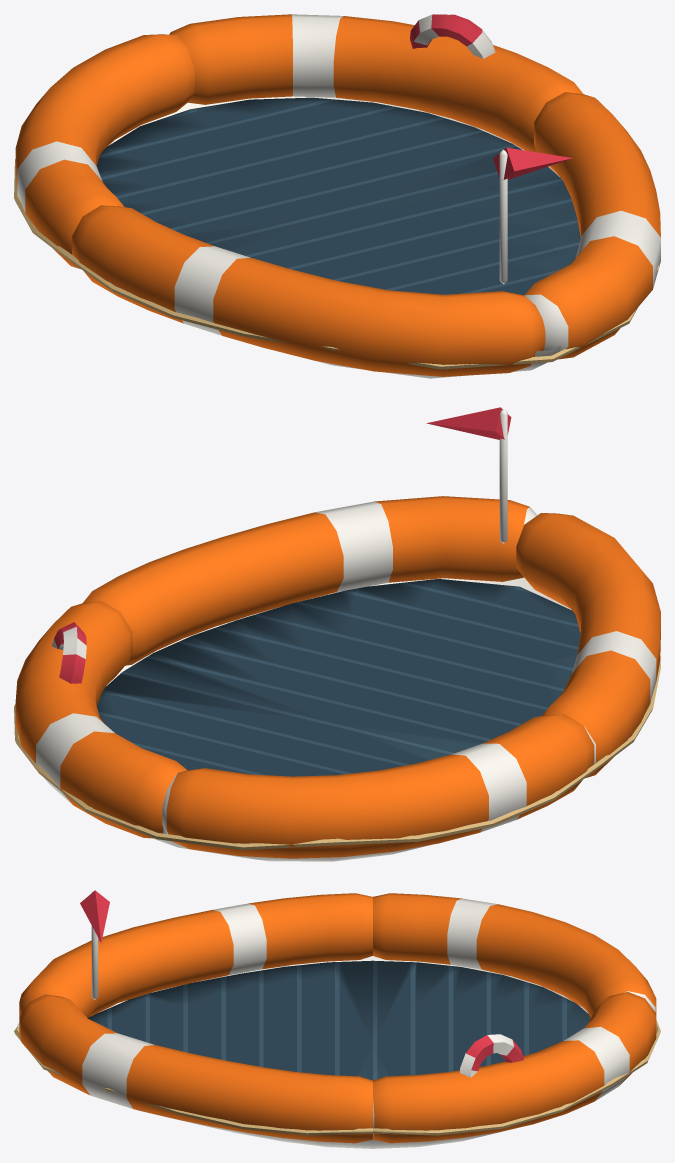
File: R05_Lifeboat.fbx
3 views of the same model, one above another, from view 1: azimuth 30°, elevation 25°; view 2: azimuth 150°, elevation 25°; view 3: azimuth 270°, elevation 25° (orthographic). The views are drawn at different scales.
Visible parts, largest first — view 1: Raft_Floor, Chamber_0_NE, Chamber_3_SO, Chamber_1_NO, Chamber_2_SE, Raft_Deco; view 2: Raft_Floor, Chamber_1_NO, Chamber_2_SE, Chamber_3_SO, Chamber_0_NE, Raft_Deco; view 3: Raft_Floor, Chamber_1_NO, Chamber_0_NE, Chamber_3_SO, Chamber_2_SE, Raft_Deco.
Boxes of the visible parts, x1,y1,x2,y2 form: Raft_Floor: (97, 97, 580, 295); Chamber_0_NE: (72, 205, 545, 376); Chamber_3_SO: (169, 14, 583, 152); Chamber_1_NO: (493, 92, 660, 359); Chamber_2_SE: (15, 34, 194, 268); Raft_Deco: (14, 96, 660, 378); Raft_Floor: (97, 579, 580, 776); Chamber_1_NO: (83, 407, 537, 665); Chamber_2_SE: (162, 714, 594, 858); Chamber_3_SO: (15, 601, 186, 838); Chamber_0_NE: (516, 513, 660, 777); Raft_Deco: (14, 577, 660, 861); Raft_Floor: (87, 960, 590, 1080); Chamber_1_NO: (19, 890, 372, 1143); Chamber_0_NE: (19, 893, 372, 1017); Chamber_3_SO: (373, 992, 656, 1143); Chamber_2_SE: (373, 893, 656, 1017); Raft_Deco: (14, 956, 660, 1148).
Size of the model in its own units: 4 by 1.74 by 5.12.
